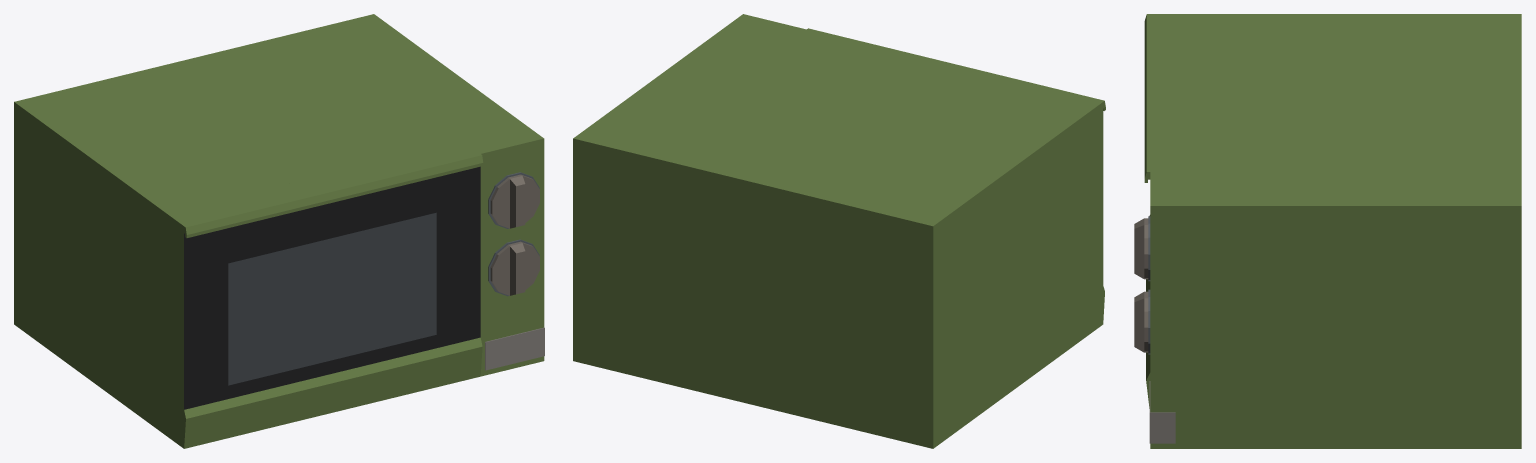
The model's file is microwave_01_B.gltf.
3 renders of one model, left to right at view 1: azimuth 30°, elevation 25°; view 2: azimuth 150°, elevation 25°; view 3: azimuth 270°, elevation 25°, orthographic. The views are drawn at different scales.
Visible parts, largest first — view 1: microwave_01_B, DoorFORmicrowave_01_B, buttonformicrowave_01_B; view 2: microwave_01_B, DoorFORmicrowave_01_B; view 3: microwave_01_B, DoorFORmicrowave_01_B, buttonformicrowave_01_B.
Part boxes in pixels (left/top/right/bottom): microwave_01_B: left=14, top=14, right=544, bottom=435; DoorFORmicrowave_01_B: left=166, top=141, right=483, bottom=448; buttonformicrowave_01_B: left=485, top=327, right=544, bottom=370; microwave_01_B: left=573, top=14, right=1085, bottom=448; DoorFORmicrowave_01_B: left=789, top=28, right=1105, bottom=337; microwave_01_B: left=1134, top=14, right=1521, bottom=448; DoorFORmicrowave_01_B: left=1144, top=14, right=1188, bottom=408; buttonformicrowave_01_B: left=1149, top=381, right=1175, bottom=443.
Bounding box in the file's own units: 0.4405 × 0.26 × 0.3754.
1 material, 1 textured.
